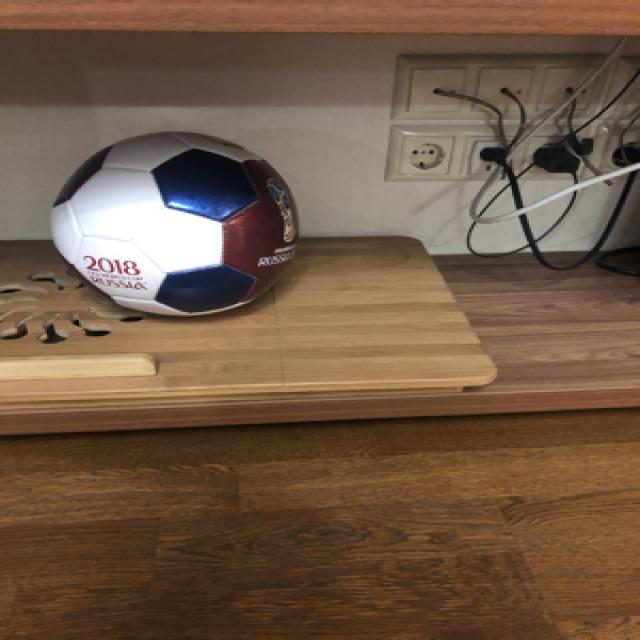soccer_ball: (44, 130, 298, 316)
